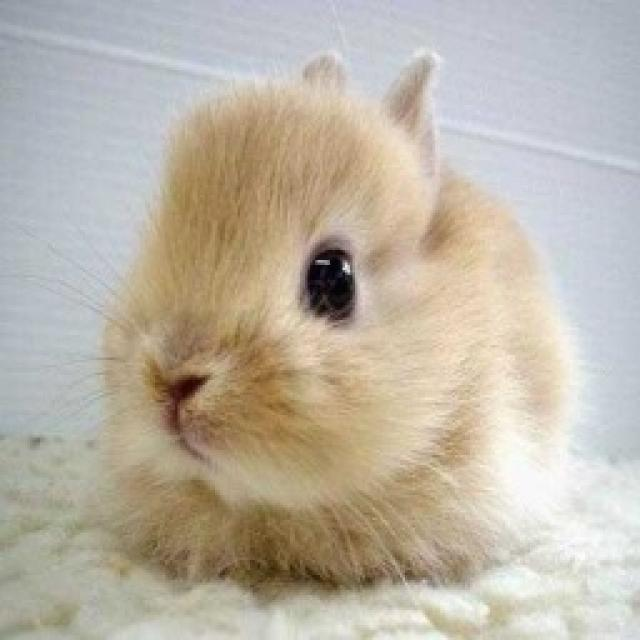not_pig: (78, 47, 583, 595)
